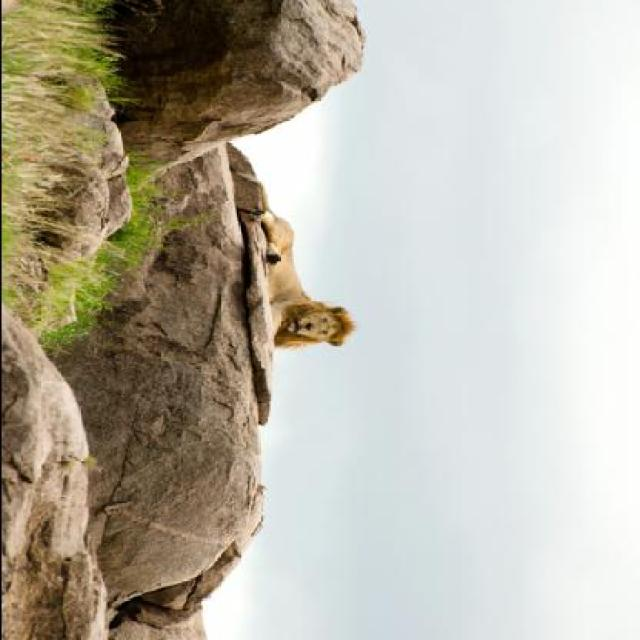Lion: (228, 200, 363, 360)
